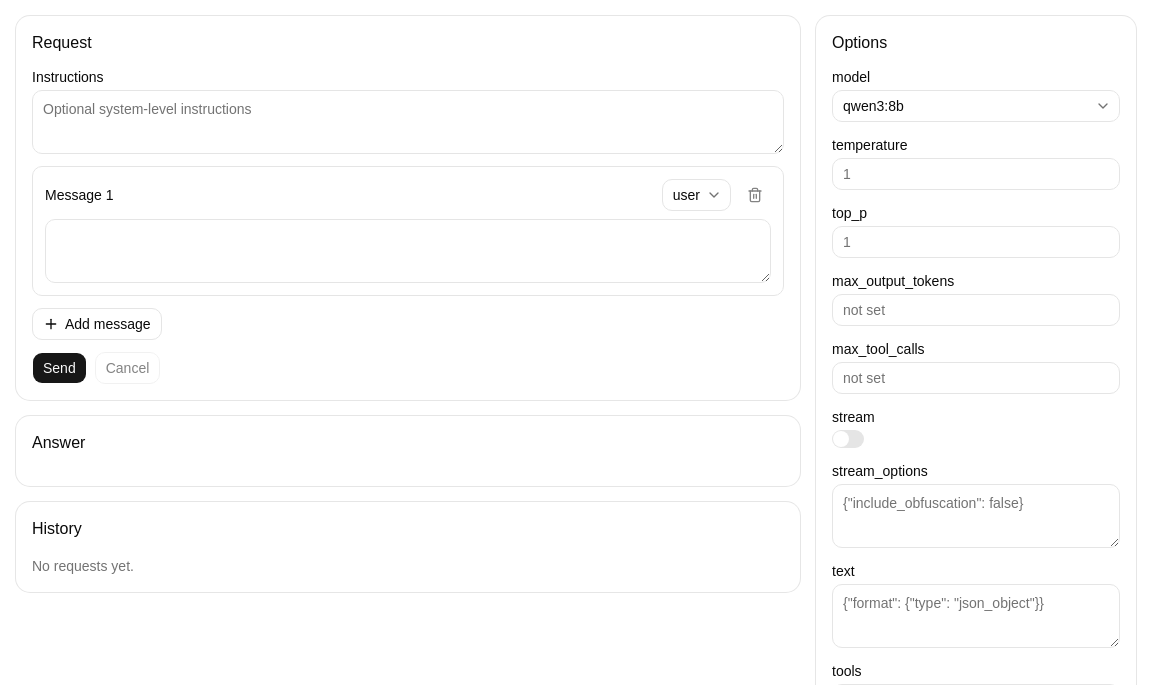
Scenario: a server error is shown as-is in its history entry
Expected: the dropdown named "model" shows "qwen3:8b", top-left (832, 90), bottom-right (1120, 122)
Type "Hello" into the text box labelled "Message 1" at (408, 251), box top-left (45, 219), bottom-right (771, 283)
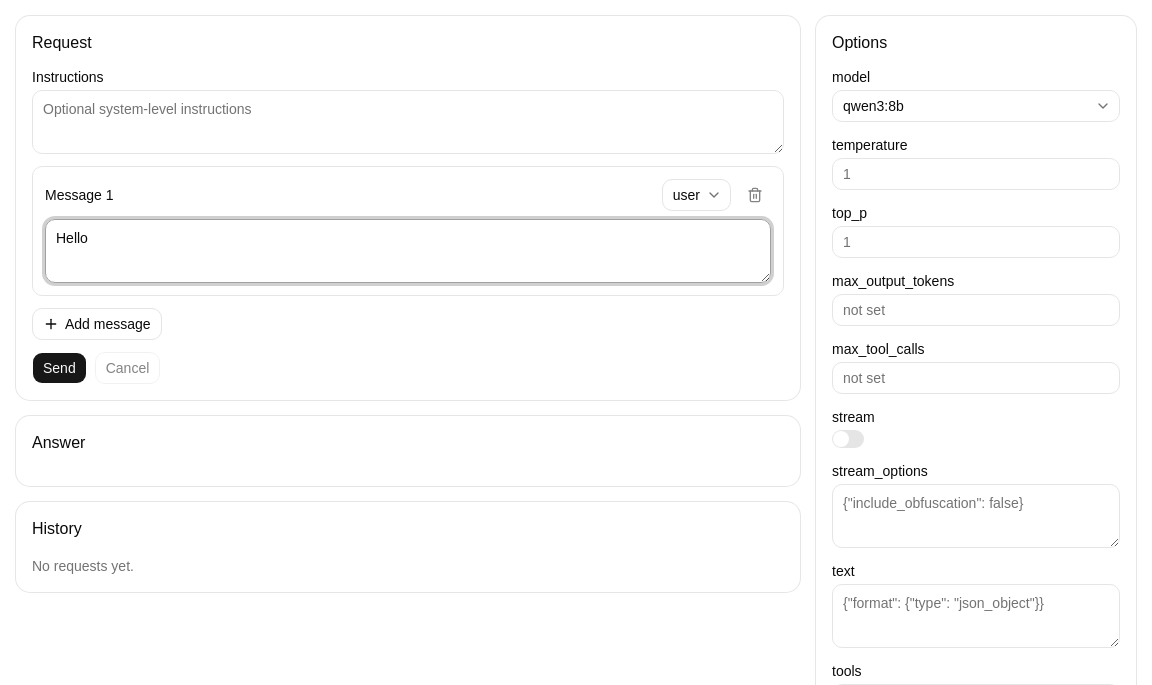
Click the button "Send" at (59, 368), box top-left (32, 352), bottom-right (87, 384)
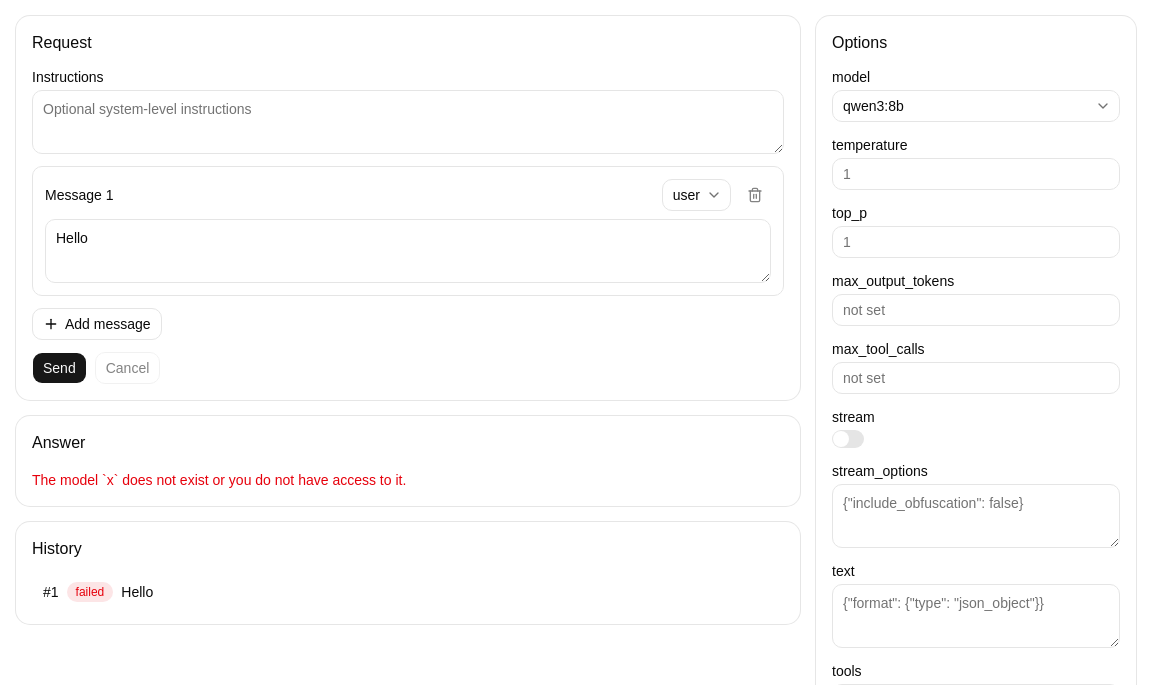
Expected: the message reads "The model `x` does not exist or you do not have access to it.", top-left (32, 472), bottom-right (406, 488)
Expected: the button "#1 failed Hello" is shown, top-left (32, 576), bottom-right (784, 608)
